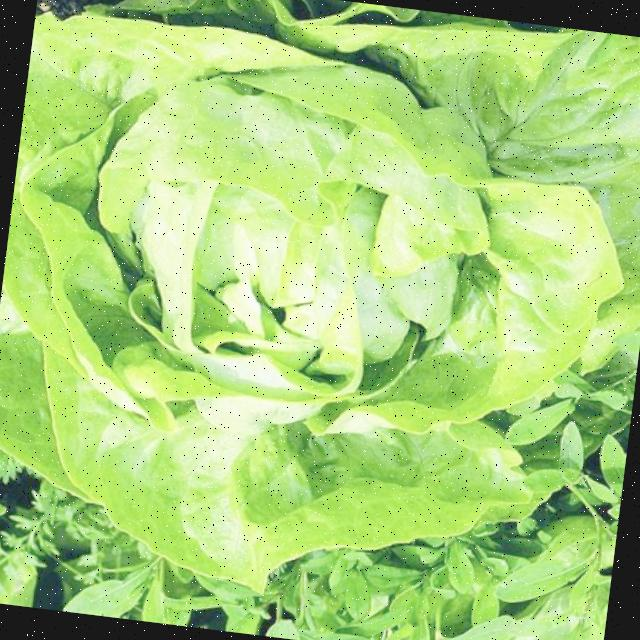Powdery_mildew_on_lettuce: (93, 92, 449, 394)
